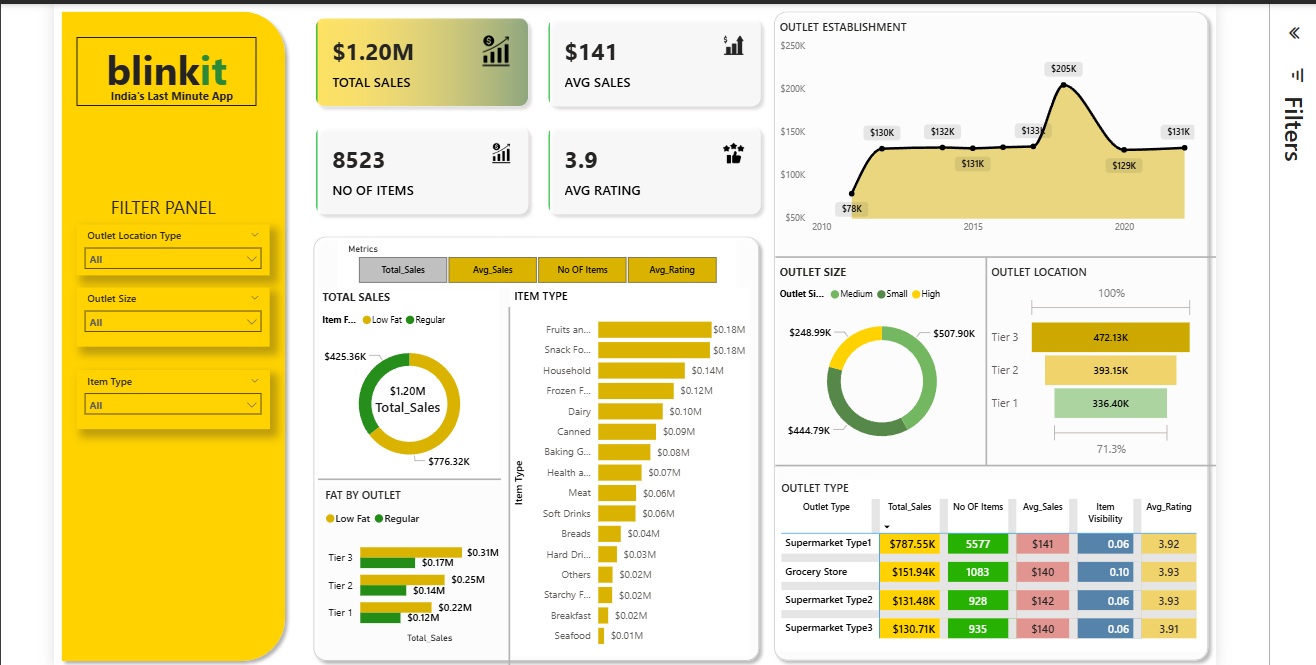

What the dashboard file says about the page in this screenshot:
{"tool":"powerbi","page":{"name":"Page 1","canvas":[1400,800],"ordinal":0},"visuals":[{"type":"shape","box":[0,0,287.4,800.6],"z":0},{"type":"textbox","box":[26.7,40,216.7,83.3],"z":1000},{"type":"textbox","box":[63.3,95,180,28.3],"z":2000},{"type":"cardVisual","fields":{"Data":["BlinkIT Grocery Data.Total_Sales","BlinkIT Grocery Data.Avg_Sales","BlinkIT Grocery Data.No OF Items","BlinkIT Grocery Data.Avg_Rating"]},"box":[297.6,0,570.7,270.7],"z":3000},{"type":"shape","box":[303.9,270.6,554.9,529.4],"z":4000},{"type":"donutChart","title":"TOTAL SALES","fields":{"Y":["BlinkIT Grocery Data.Total_Sales"],"Category":["BlinkIT Grocery Data.Item Fat Content"]},"box":[317.6,343.1,219.6,231.4],"z":5000},{"type":"slicer","title":"FAT BY OUTLET","fields":{"Values":["Metrics.Metrics"]},"box":[341.2,284.3,480.4,58.8],"z":6000},{"type":"cardVisual","fields":{"Data":["BlinkIT Grocery Data.Total_Sales"]},"box":[368.6,439.2,115.7,72.5],"z":7000},{"type":"clusteredBarChart","title":"FAT BY OUTLET","fields":{"Y":["BlinkIT Grocery Data.Total_Sales"],"Category":["BlinkIT Grocery Data.Outlet Location Type"],"Series":["BlinkIT Grocery Data.Item Fat Content"]},"box":[321.2,582.7,219.2,192.3],"z":8000},{"type":"shape","box":[318.4,551,220.4,42.9],"z":9000},{"type":"shape","box":[858.8,0,541.2,800],"z":10000},{"type":"clusteredBarChart","title":"ITEM TYPE","fields":{"Y":["BlinkIT Grocery Data.Total_Sales"],"Category":["BlinkIT Grocery Data.Item Type"]},"box":[550,342.3,288.5,444.2],"z":11000},{"type":"lineChart","title":"OUTLET ESTABLISHMENT","fields":{"Category":["BlinkIT Grocery Data.Outlet Establishment Year"],"Y":["BlinkIT Grocery Data.Total_Sales"]},"box":[869.2,17.3,509.6,267.3],"z":12000},{"type":"shape","box":[869.2,284.6,530.8,42.3],"z":13000},{"type":"shape","box":[517.3,365.4,63.5,434.6],"z":14000},{"type":"donutChart","title":"OUTLET SIZE","fields":{"Y":["BlinkIT Grocery Data.Total_Sales"],"Category":["BlinkIT Grocery Data.Outlet Size"]},"box":[869.2,313.5,255.8,238.5],"z":15000},{"type":"shape","box":[1092.3,305.8,63.5,250],"z":16000},{"type":"funnel","title":"OUTLET LOCATION","fields":{"Category":["BlinkIT Grocery Data.Outlet Location Type"],"Y":["Sum(BlinkIT Grocery Data.Sales)"]},"box":[1125,313.5,253.8,238.5],"z":17000},{"type":"shape","box":[869.2,534.6,530.8,42.3],"z":18000},{"type":"pivotTable","title":"OUTLET TYPE","fields":{"Rows":["BlinkIT Grocery Data.Outlet Type"],"Values":["BlinkIT Grocery Data.Total_Sales","BlinkIT Grocery Data.No OF Items","BlinkIT Grocery Data.Avg_Sales","Avg(BlinkIT Grocery Data.Item Visibility)","BlinkIT Grocery Data.Avg_Rating"]},"box":[871.2,573.1,515.4,207.7],"z":19000},{"type":"slicer","fields":{"Values":["BlinkIT Grocery Data.Outlet Location Type"]},"box":[26.9,265.4,232.7,61.5],"z":20000},{"type":"slicer","fields":{"Values":["BlinkIT Grocery Data.Outlet Size"]},"box":[26.9,342.3,232.7,71.2],"z":21000},{"type":"slicer","fields":{"Values":["BlinkIT Grocery Data.Item Type"]},"box":[26.9,440.4,232.7,71.2],"z":22000},{"type":"textbox","box":[63.5,225,161.5,40.4],"z":23000}]}

Visuals, with their boxes on the page's 1400x800 design canvas (x1, y1, x2, y2). These are canvas units, not pixel positions in the 1316x665 screenshot, which may show the page scaled, cropped or inside an application window:
shape: crop(0, 0, 287, 801)
textbox: crop(27, 40, 243, 123)
textbox: crop(63, 95, 243, 123)
cardVisual - BlinkIT Grocery Data.Total_Sales x BlinkIT Grocery Data.Avg_Sales: crop(298, 0, 868, 271)
shape: crop(304, 271, 859, 800)
"TOTAL SALES" donutChart: crop(318, 343, 537, 574)
"FAT BY OUTLET" slicer: crop(341, 284, 822, 343)
cardVisual - BlinkIT Grocery Data.Total_Sales: crop(369, 439, 484, 512)
"FAT BY OUTLET" clusteredBarChart: crop(321, 583, 540, 775)
shape: crop(318, 551, 539, 594)
shape: crop(859, 0, 1400, 800)
"ITEM TYPE" clusteredBarChart: crop(550, 342, 838, 786)
"OUTLET ESTABLISHMENT" lineChart: crop(869, 17, 1379, 285)
shape: crop(869, 285, 1400, 327)
shape: crop(517, 365, 581, 800)
"OUTLET SIZE" donutChart: crop(869, 314, 1125, 552)
shape: crop(1092, 306, 1156, 556)
"OUTLET LOCATION" funnel: crop(1125, 314, 1379, 552)
shape: crop(869, 535, 1400, 577)
"OUTLET TYPE" pivotTable: crop(871, 573, 1387, 781)
slicer - BlinkIT Grocery Data.Outlet Location Type: crop(27, 265, 260, 327)
slicer - BlinkIT Grocery Data.Outlet Size: crop(27, 342, 260, 414)
slicer - BlinkIT Grocery Data.Item Type: crop(27, 440, 260, 512)
textbox: crop(64, 225, 225, 265)
